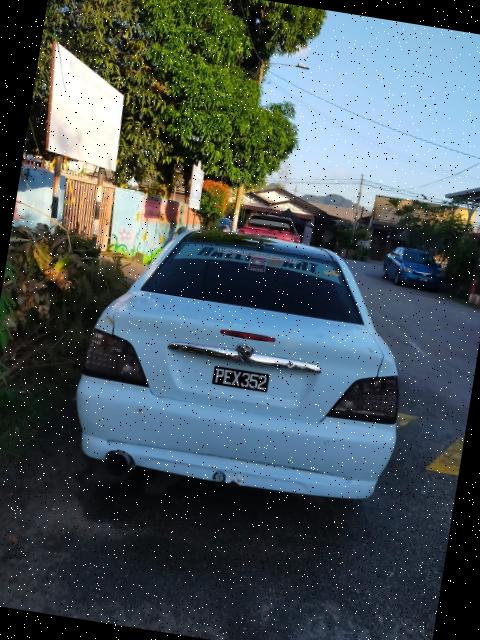License_Plate: (205, 361, 278, 401)
car: (66, 199, 430, 517)
